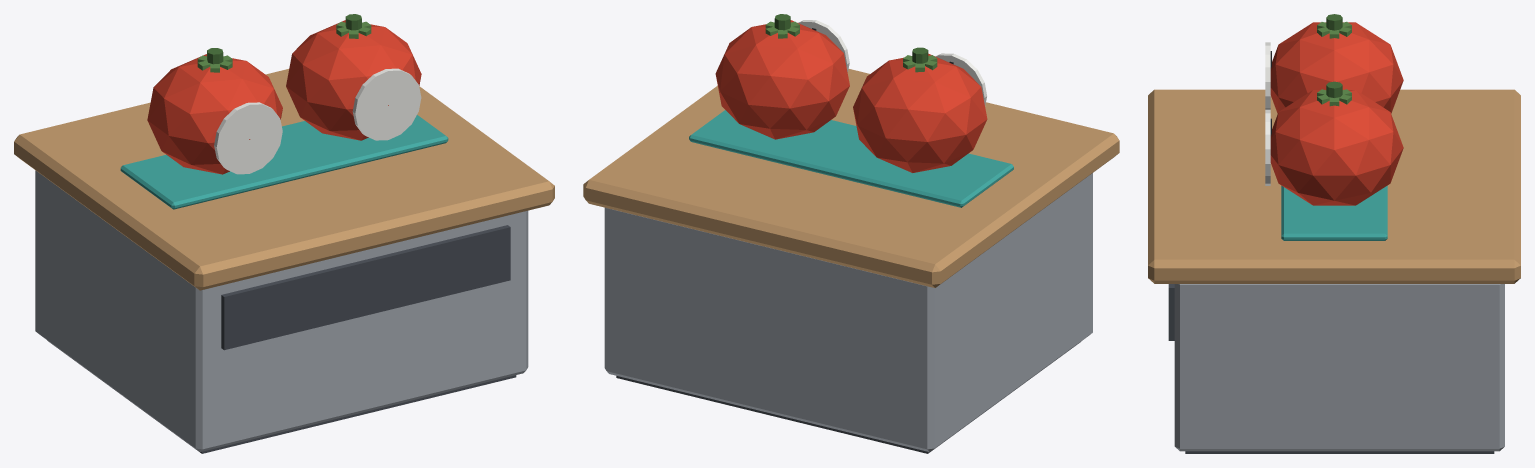
Rendered from pomodoro_p0_3.glb.
3 views of the same model, side by side, from view 1: azimuth 30°, elevation 25°; view 2: azimuth 150°, elevation 25°; view 3: azimuth 270°, elevation 25° (orthographic).
Visible parts, largest first — view 1: pomodoro_p0_3_mesh_Desk, pomodoro_p0_3_mesh; view 2: pomodoro_p0_3_mesh_Desk, pomodoro_p0_3_mesh; view 3: pomodoro_p0_3_mesh_Desk, pomodoro_p0_3_mesh.
Part boxes in pixels (bbox=[...]): pomodoro_p0_3_mesh_Desk: bbox=[14, 69, 554, 453]; pomodoro_p0_3_mesh: bbox=[120, 14, 448, 209]; pomodoro_p0_3_mesh_Desk: bbox=[583, 69, 1119, 453]; pomodoro_p0_3_mesh: bbox=[689, 14, 1013, 207]; pomodoro_p0_3_mesh_Desk: bbox=[1148, 89, 1520, 453]; pomodoro_p0_3_mesh: bbox=[1265, 14, 1403, 240].
Size of the model in its own units: 0.78 by 0.6755 by 0.7.
